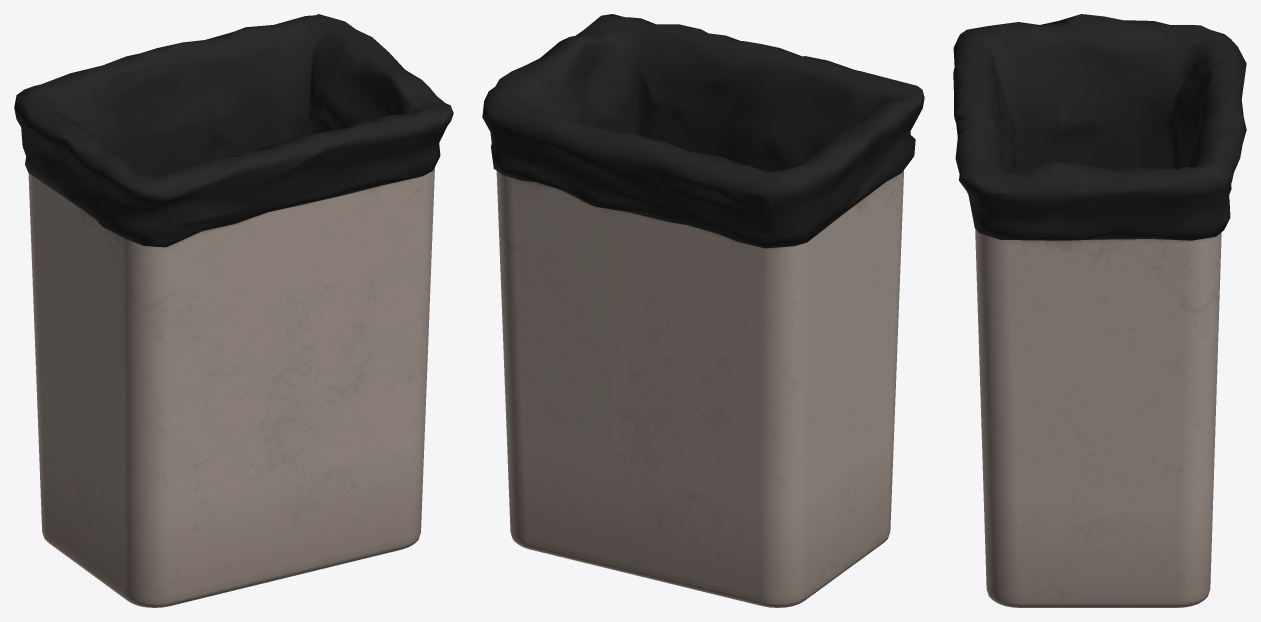
The model's file is SM_Trash_Can.fbx.
The picture shows the model from 3 angles, left to right: view 1: azimuth 30°, elevation 25°; view 2: azimuth 150°, elevation 25°; view 3: azimuth 270°, elevation 25°; orthographic projection.
Parts seen in each view (by area): view 1: SM_Trash_Can_LOD0; view 2: SM_Trash_Can_LOD0; view 3: SM_Trash_Can_LOD0.
Part boxes in pixels (<box>): SM_Trash_Can_LOD0: <box>14,14,453,607</box>; SM_Trash_Can_LOD0: <box>482,14,924,607</box>; SM_Trash_Can_LOD0: <box>953,14,1246,607</box>.
Size of the model in its own units: 47.38 by 35.23 by 59.15.
Materials: 1 (1 with a texture image).
